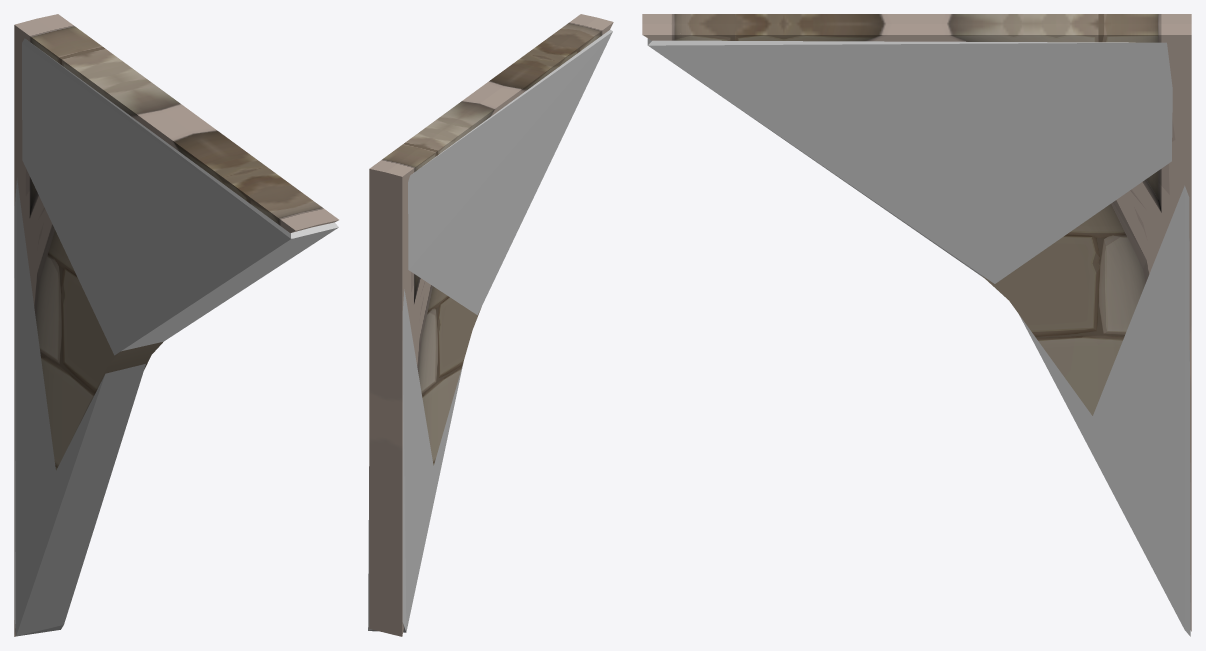
Rendered from SM_Bld_Wall_End_Convex_Inverted_01.fbx.
3 renders of one model, left to right at view 1: azimuth 30°, elevation 25°; view 2: azimuth 150°, elevation 25°; view 3: azimuth 270°, elevation 25°, orthographic. The views are drawn at different scales.
Parts seen in each view (by area): view 1: SM_Bld_Wall_End_Convex_Inverted_01_ConvexHulls, SM_Bld_Wall_End_Convex_Inverted_01; view 2: SM_Bld_Wall_End_Convex_Inverted_01, SM_Bld_Wall_End_Convex_Inverted_01_ConvexHulls; view 3: SM_Bld_Wall_End_Convex_Inverted_01_ConvexHulls, SM_Bld_Wall_End_Convex_Inverted_01.
Part boxes in pixels (left/top/right/bottom): SM_Bld_Wall_End_Convex_Inverted_01_ConvexHulls: left=14, top=38, right=338, bottom=636; SM_Bld_Wall_End_Convex_Inverted_01: left=14, top=14, right=338, bottom=636; SM_Bld_Wall_End_Convex_Inverted_01: left=369, top=14, right=613, bottom=636; SM_Bld_Wall_End_Convex_Inverted_01_ConvexHulls: left=368, top=29, right=612, bottom=632; SM_Bld_Wall_End_Convex_Inverted_01_ConvexHulls: left=647, top=38, right=1190, bottom=636; SM_Bld_Wall_End_Convex_Inverted_01: left=642, top=14, right=1191, bottom=631.
Size of the model in its own units: 24.54 by 250 by 302.
2 materials, 1 textured.
